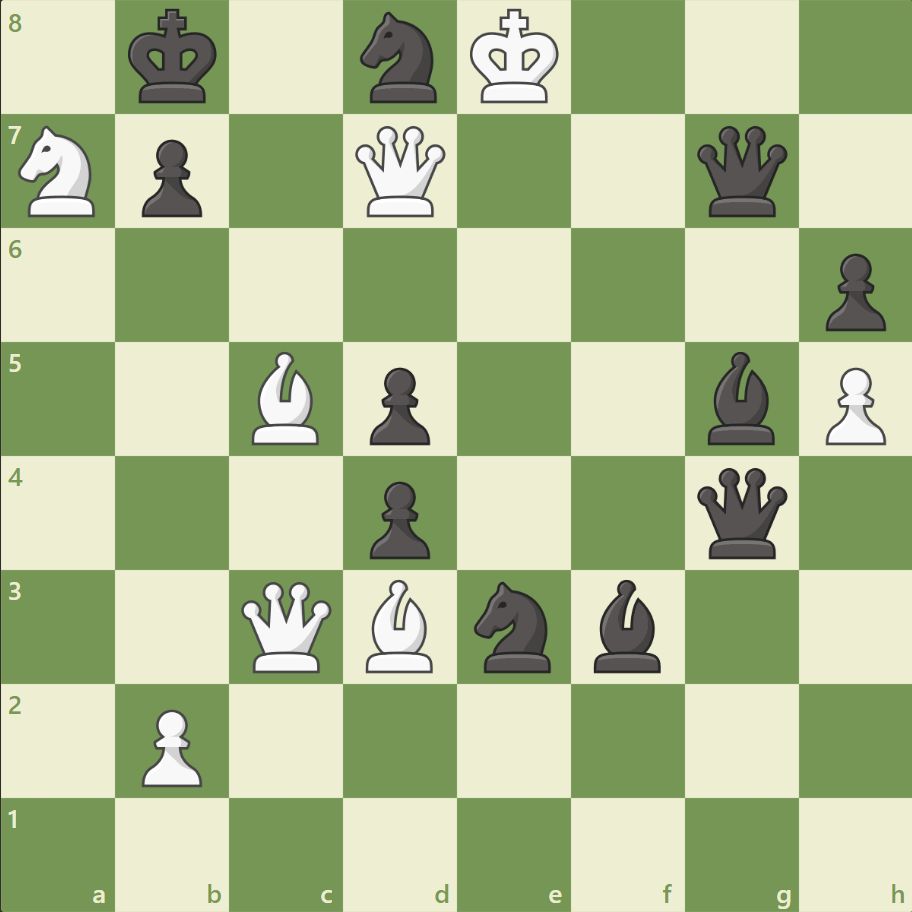B: (244, 347, 328, 449), (358, 574, 442, 676)
K: (465, 4, 565, 112)
N: (11, 121, 108, 223)
P: (133, 700, 208, 791), (815, 359, 889, 450)
Q: (351, 122, 450, 222), (237, 576, 336, 676)
b: (698, 347, 782, 449), (585, 574, 669, 676)
k: (124, 4, 224, 112)
n: (351, 7, 449, 110), (465, 575, 562, 677)
p: (133, 132, 208, 223), (815, 246, 889, 337), (361, 359, 435, 450), (361, 473, 435, 564)
q: (691, 122, 790, 222), (691, 463, 790, 562)
